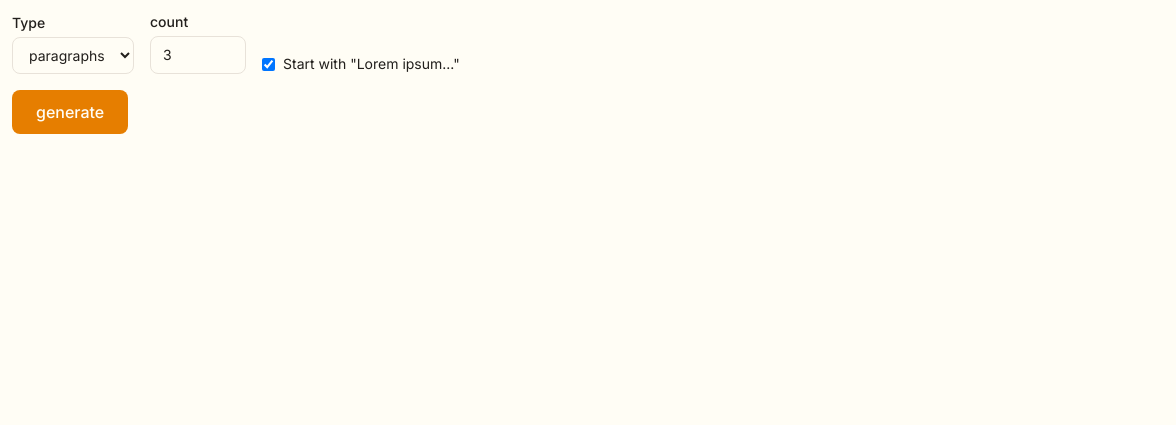
Scenario: LoremIpsum › starts with "Lorem ipsum" when checkbox is checked
Click the button "generate" at [70, 112], box x1=12 y1=90 x2=128 y2=134
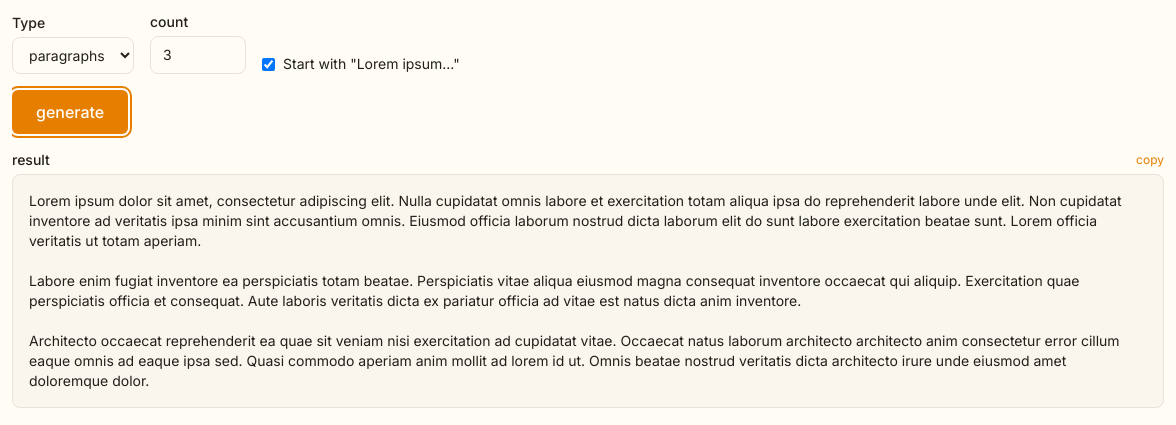
Expected: the text with class "whitespace-pre-wrap" shows "Lorem ipsum dolor sit amet", x1=29 y1=192 x2=1126 y2=389
